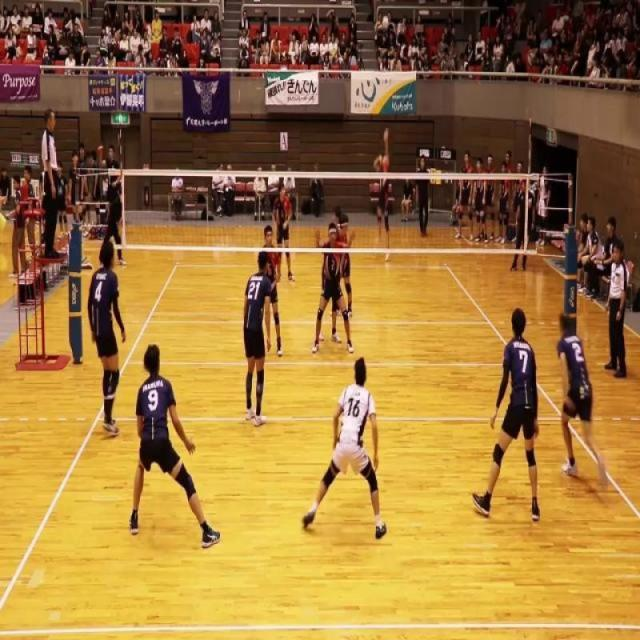volleyball: (382, 15, 388, 30)
